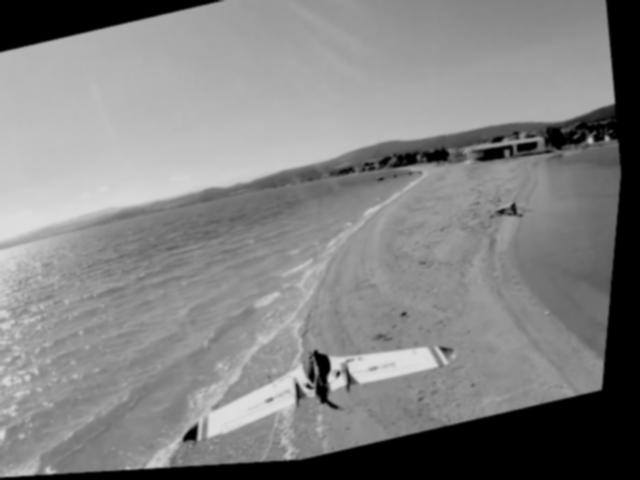hedef: (166, 307, 481, 471)
